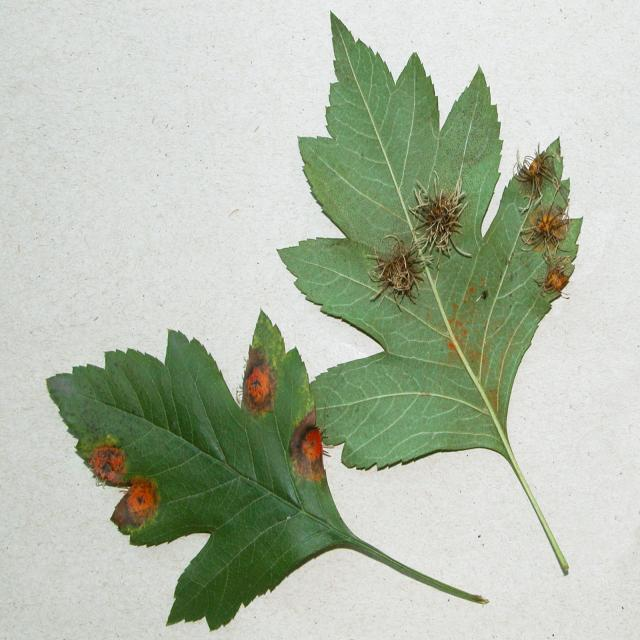Gymnosporangium_Rusts: (45, 10, 584, 631)
